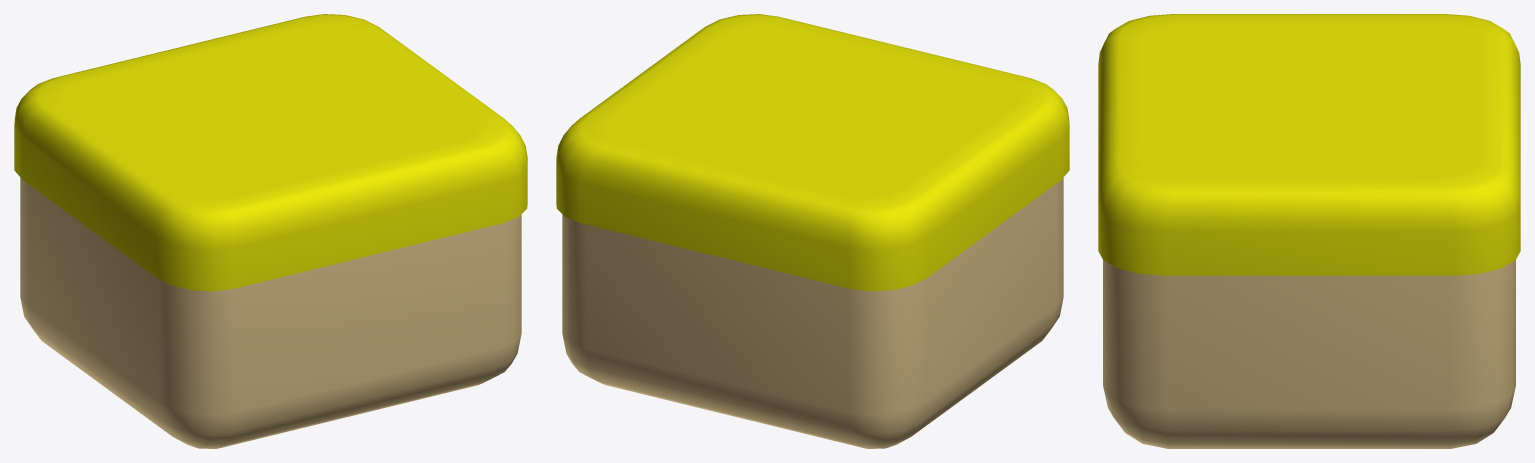
Rendered from fridgebox4.glb.
3 views of the same model, side by side, from view 1: azimuth 30°, elevation 25°; view 2: azimuth 150°, elevation 25°; view 3: azimuth 270°, elevation 25° (orthographic). The views are drawn at different scales.
Parts seen in each view (by area): view 1: Cube.050; view 2: Cube.050; view 3: Cube.050.
Part boxes in pixels (x1,y1,x2,y2): Cube.050: (14,14,527,448); Cube.050: (556,14,1069,448); Cube.050: (1098,14,1520,448).
Bounding box in the file's own units: 0.4573 × 0.304 × 0.4259.
